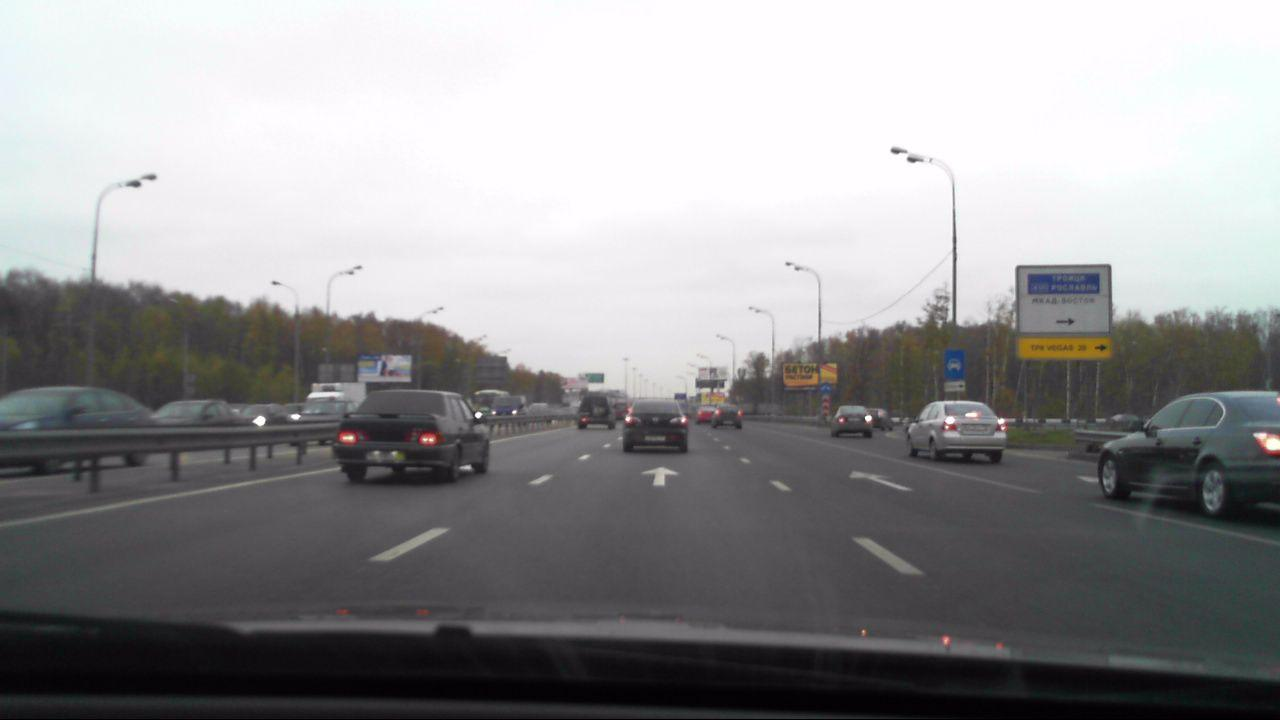4_2_3: (820, 382, 833, 393)
5_3: (944, 349, 966, 379)
8_1_3: (943, 380, 970, 392)
8_22_3: (820, 393, 831, 417)
